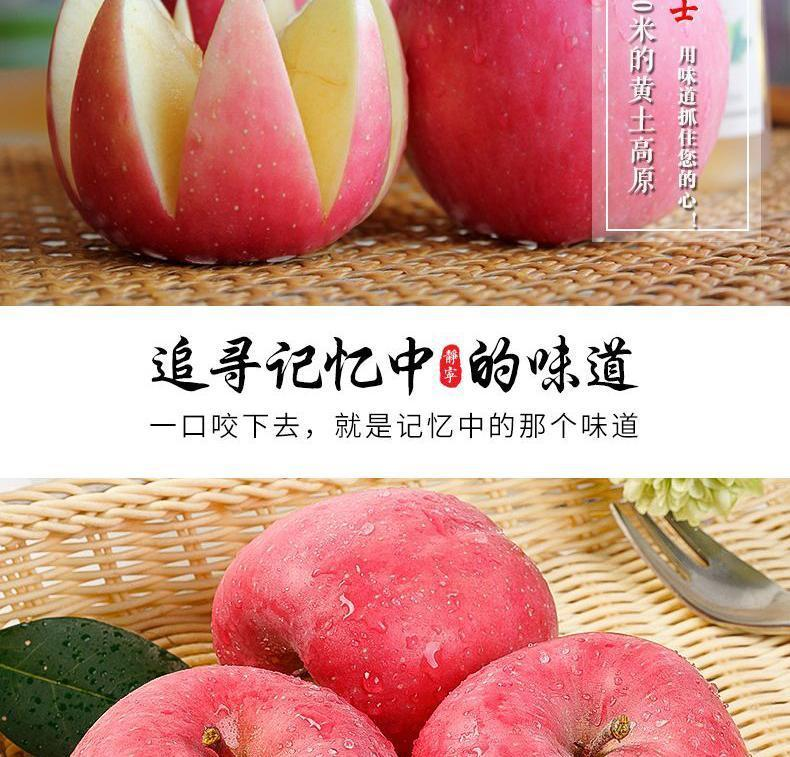apple: (210, 494, 560, 739), (393, 1, 735, 247), (408, 631, 748, 753), (70, 660, 392, 753)
